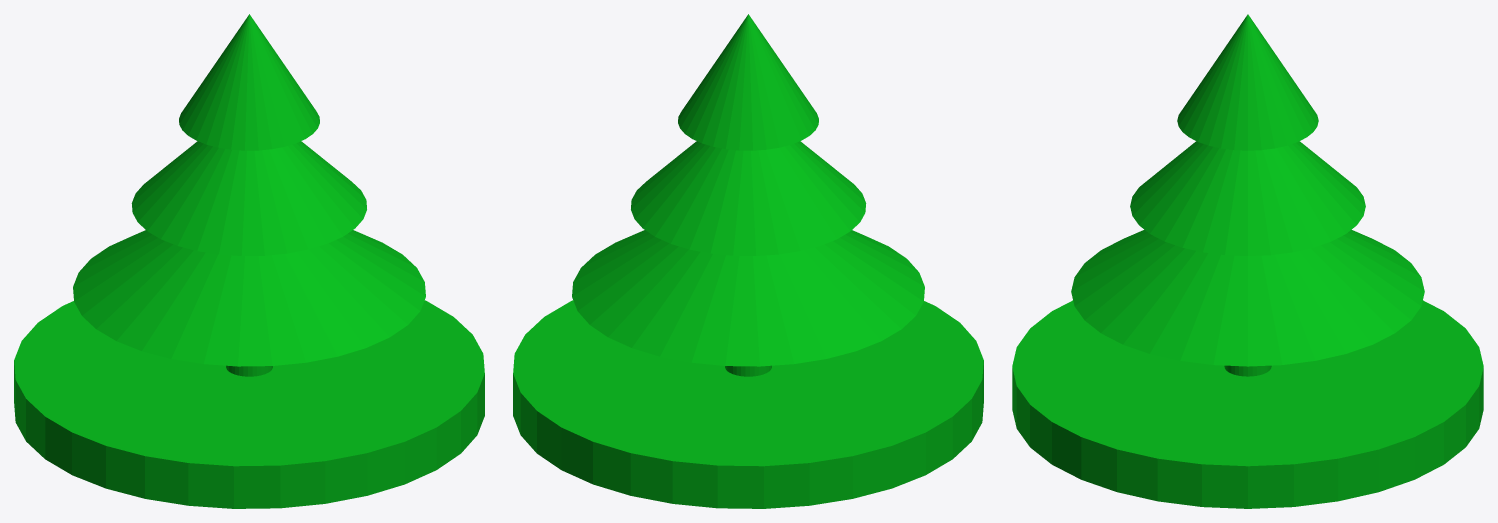
The model's file is tree.dae.
3 renders of one model, left to right at view 1: azimuth 30°, elevation 25°; view 2: azimuth 150°, elevation 25°; view 3: azimuth 270°, elevation 25°, orthographic.
Visible parts, largest first — view 1: Tree; view 2: Tree; view 3: Tree.
Part boxes in pixels (<box>): Tree: <box>14,14,484,508</box>; Tree: <box>513,14,983,508</box>; Tree: <box>1012,14,1483,508</box>.
Bounding box in the file's own units: 1000 × 1000 × 925.
